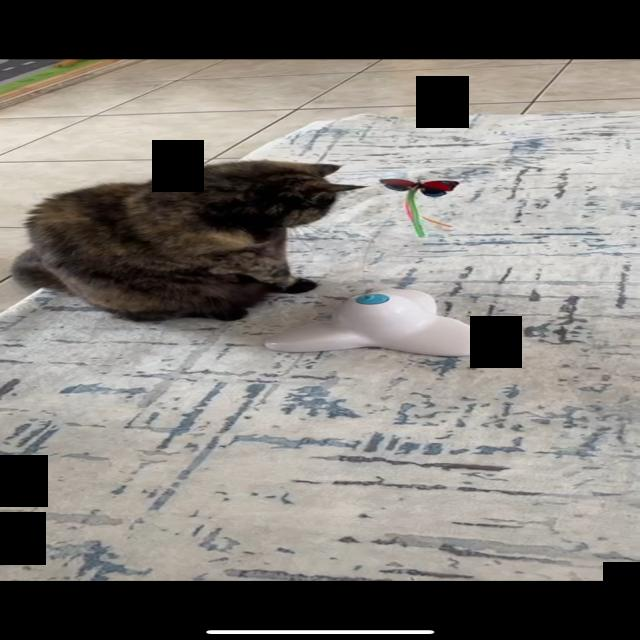authorized: (10, 159, 369, 323)
